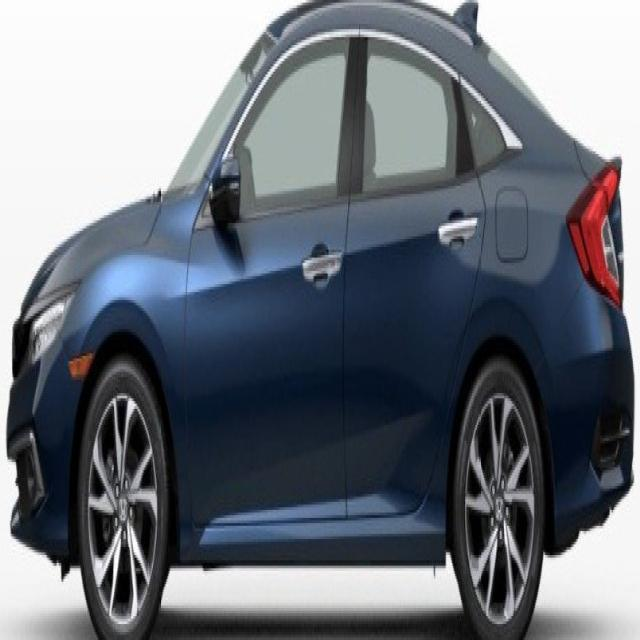blue: (13, 17, 640, 640)
